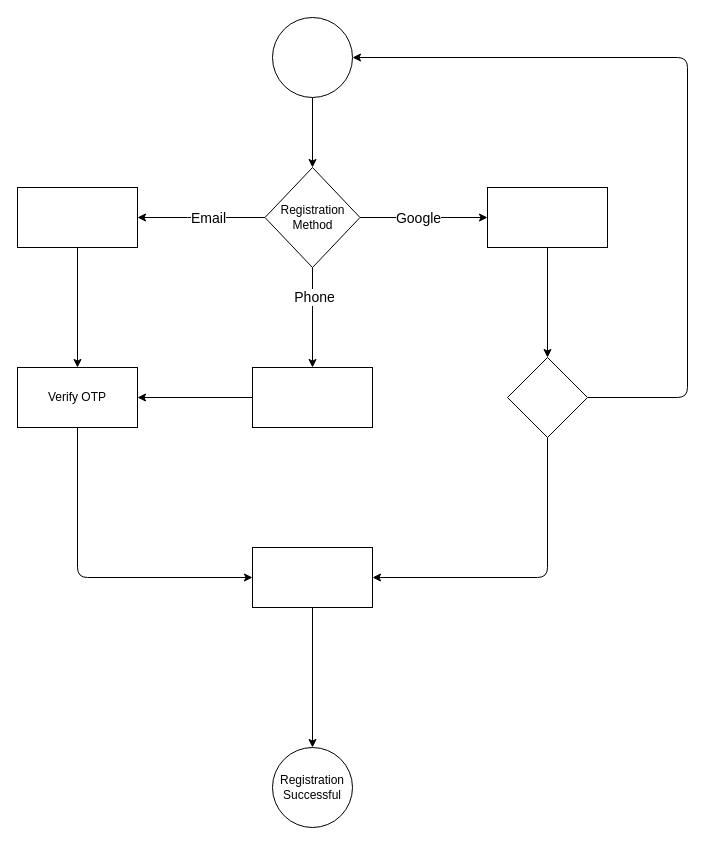
Image size: 713x845. Some labels were removed from this diagram. Here are the shapes that lost their labels. From the top down, the centre of each, then its label:
At (312,57): "User Wants to Signup".
At (312,577): "Onboarding (Set Username and Password)".
